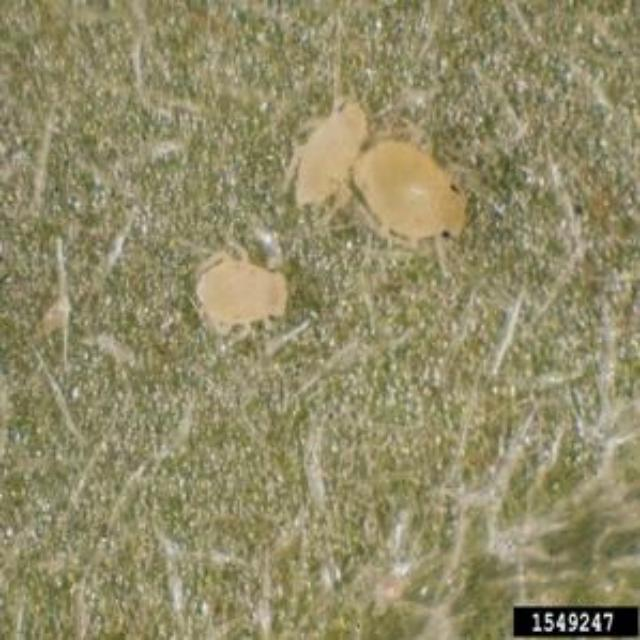Green peach aphid: (243, 60, 371, 222), (336, 111, 476, 256), (179, 230, 321, 354)
